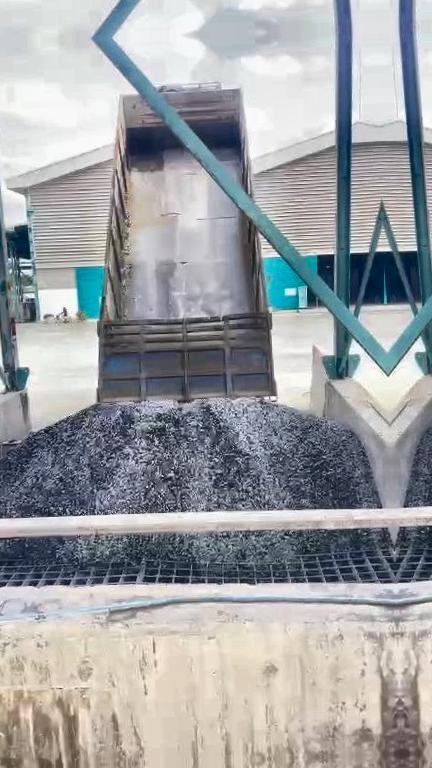gravel: (0, 399, 379, 517), (0, 530, 387, 561)
